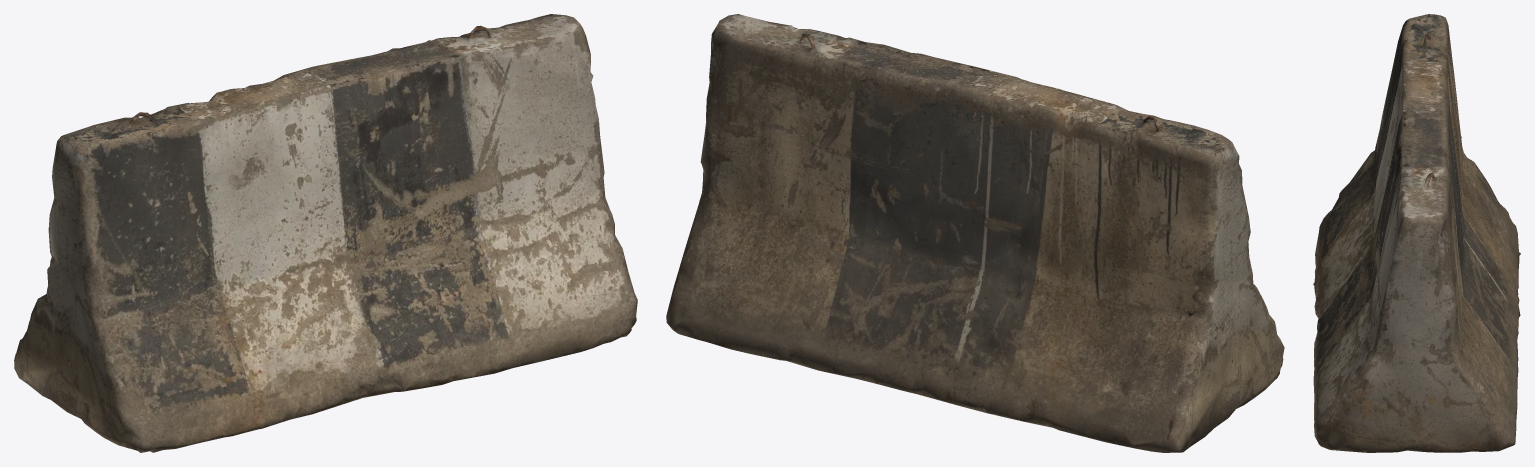
The model's file is concrete_road_barrier.glb.
3 views of the same model, side by side, from view 1: azimuth 30°, elevation 25°; view 2: azimuth 150°, elevation 25°; view 3: azimuth 270°, elevation 25° (orthographic). The views are drawn at different scales.
Visible parts, largest first — view 1: concrete_road_barrier; view 2: concrete_road_barrier; view 3: concrete_road_barrier.
Boxes of the visible parts, x1=… form: concrete_road_barrier: x1=14, y1=14, x2=637, y2=452; concrete_road_barrier: x1=666, y1=14, x2=1284, y2=452; concrete_road_barrier: x1=1313, y1=14, x2=1520, y2=452.
Bounding box in the file's own units: 1.54 × 0.8279 × 0.6386.
1 material, 1 textured.
